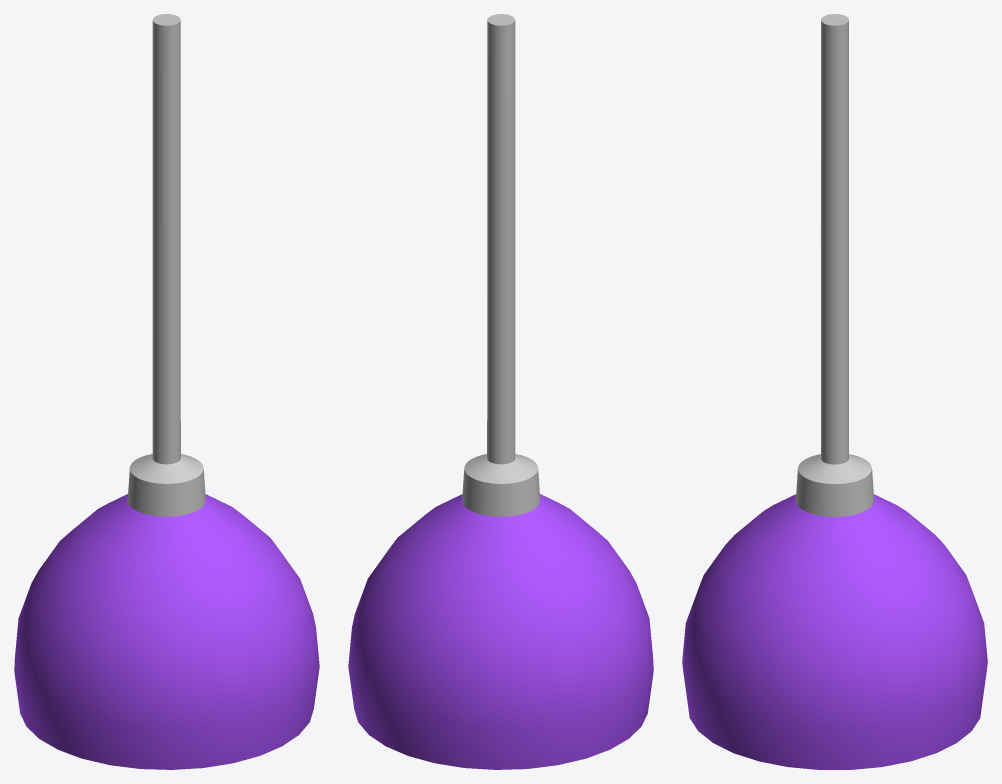
Rendered from LightCeiling13_1.FBX.
3 views of the same model, side by side, from view 1: azimuth 30°, elevation 25°; view 2: azimuth 150°, elevation 25°; view 3: azimuth 270°, elevation 25° (orthographic).
Visible parts, largest first — view 1: LightCeiling13_1; view 2: LightCeiling13_1; view 3: LightCeiling13_1.
Boxes of the visible parts, <box> form: LightCeiling13_1: <box>14,14,319,769</box>; LightCeiling13_1: <box>348,14,653,769</box>; LightCeiling13_1: <box>682,14,987,769</box>.
Bounding box in the file's own units: 39.18 × 97.47 × 39.24.
